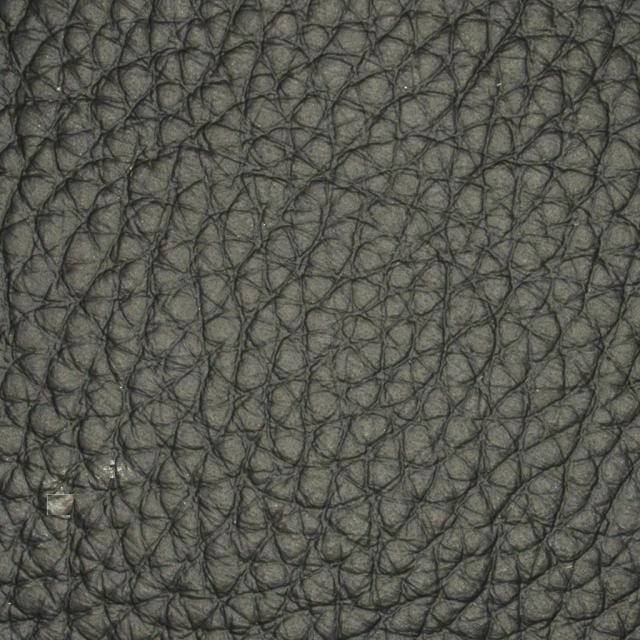Rotten surface: (23, 421, 189, 535)
